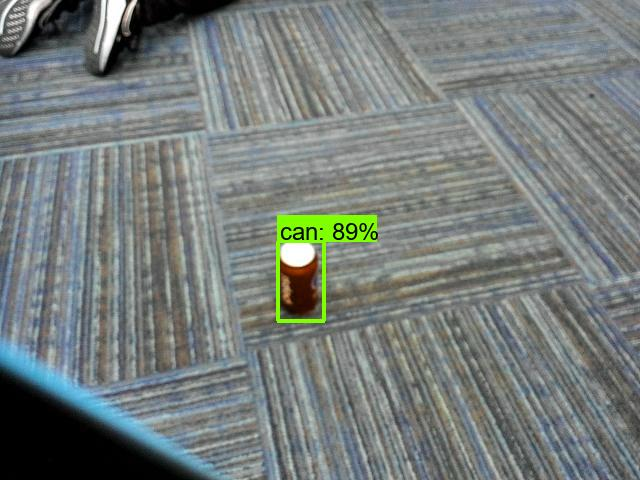can: (272, 237, 321, 321)
